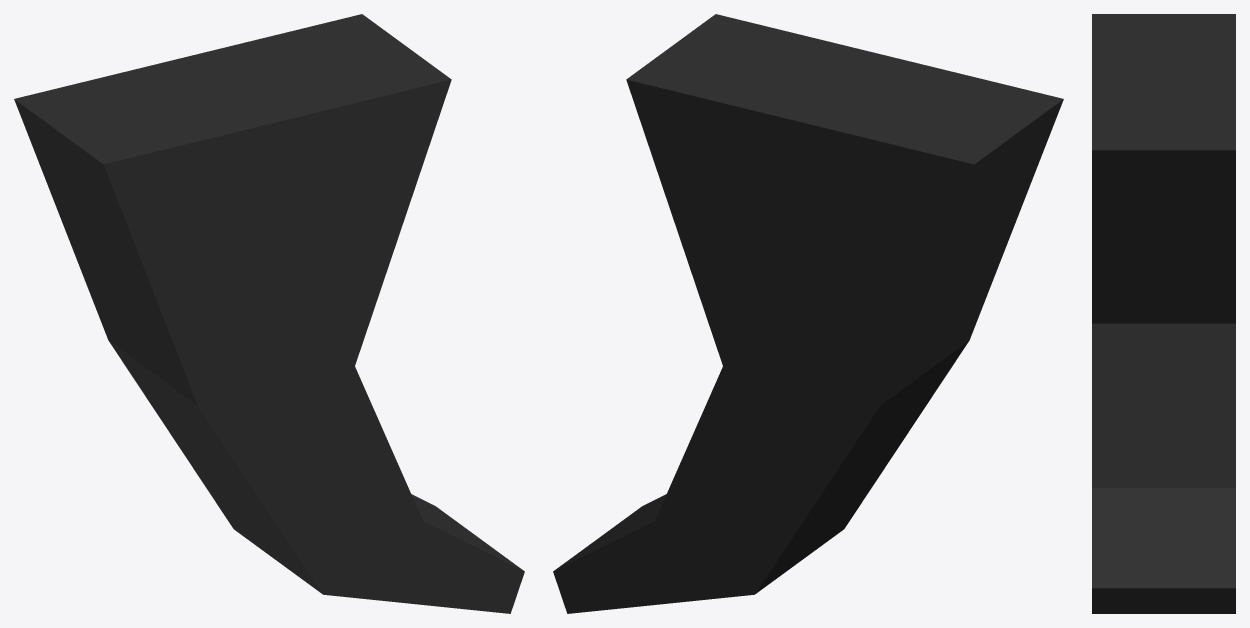
The model's file is Pistol1_04_3.fbx.
3 views of the same model, side by side, from view 1: azimuth 30°, elevation 25°; view 2: azimuth 150°, elevation 25°; view 3: azimuth 270°, elevation 25° (orthographic). The views are drawn at different scales.
Visible parts, largest first — view 1: Pistol1_04_3; view 2: Pistol1_04_3; view 3: Pistol1_04_3.
Boxes of the visible parts, left/top/right/bottom form: Pistol1_04_3: left=14, top=14, right=524, bottom=613; Pistol1_04_3: left=553, top=14, right=1063, bottom=613; Pistol1_04_3: left=1092, top=14, right=1235, bottom=613.
Size of the model in its own units: 0.026 by 0.0324 by 0.00958.
